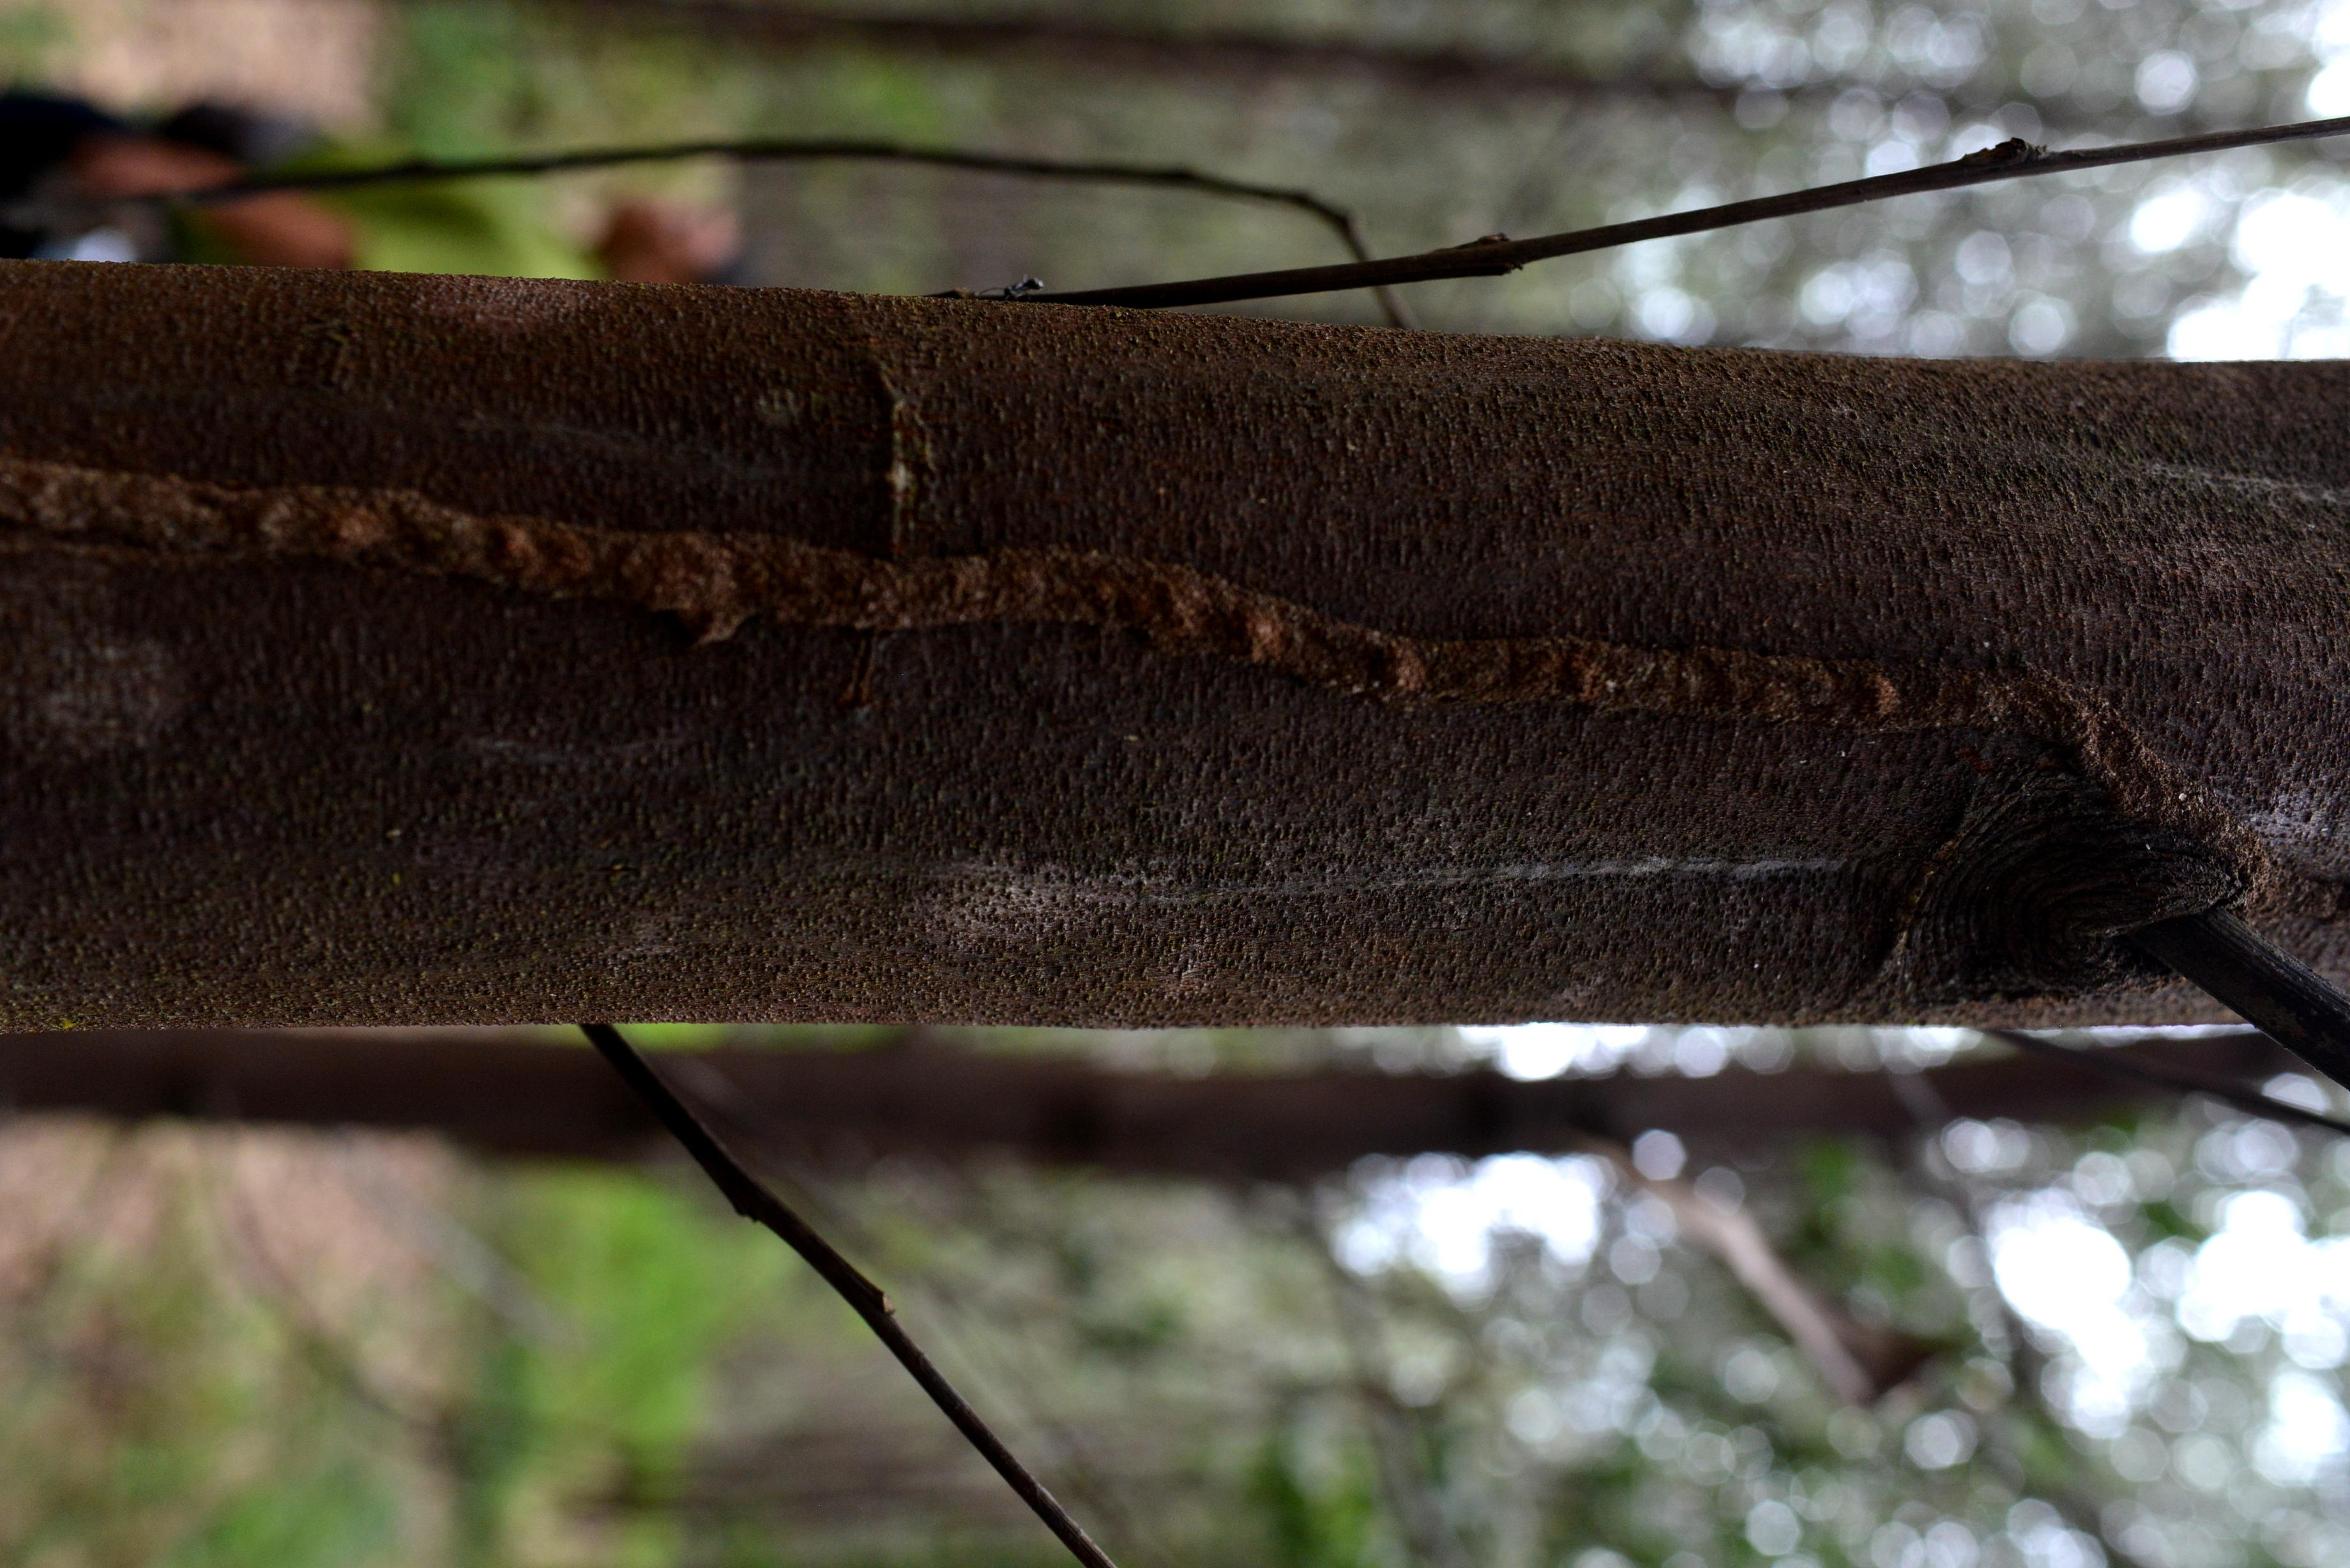Termite - Nest: (0, 418, 2058, 798), (2051, 672, 2291, 924)
